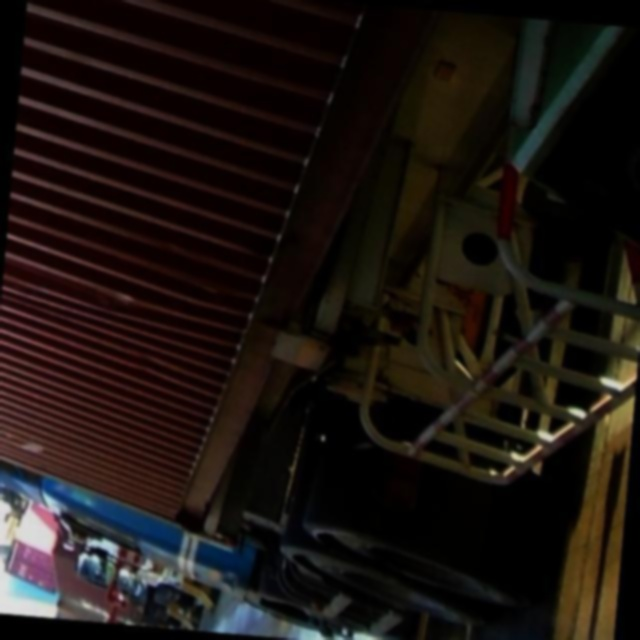Dent: (2, 259, 176, 319)
